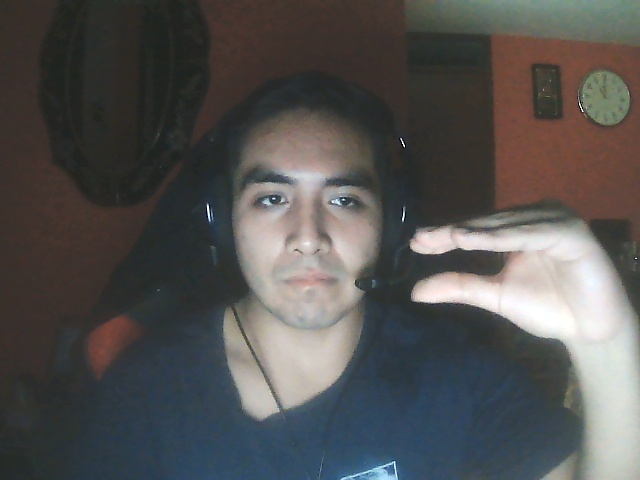no: (404, 193, 631, 343)
